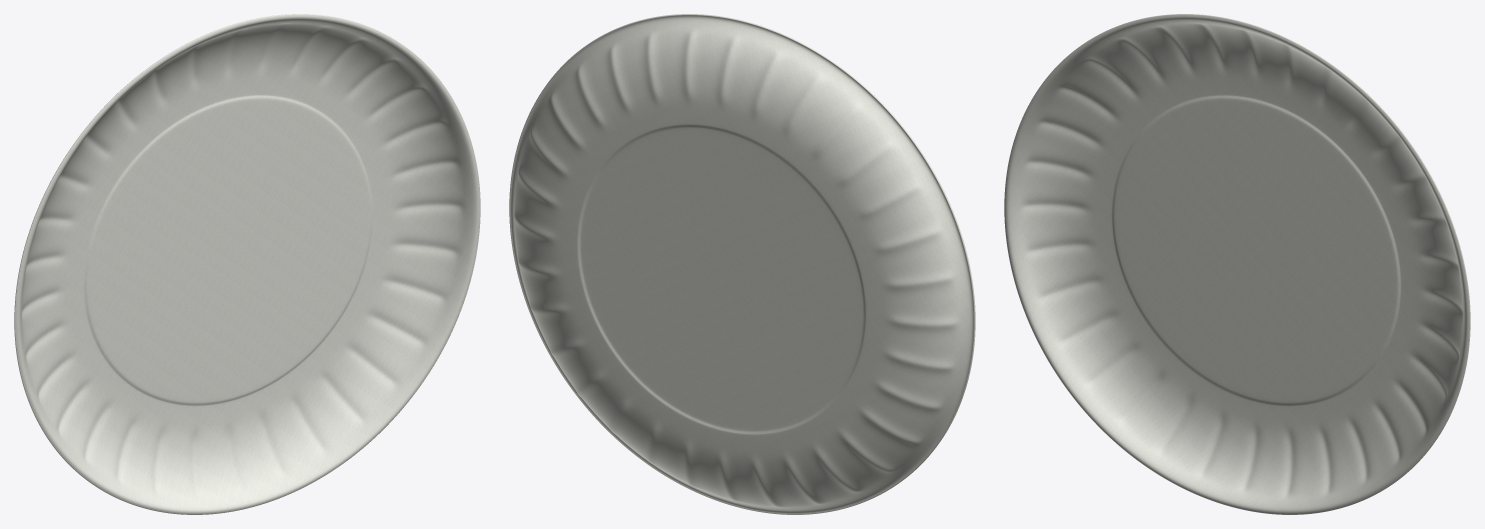
File: 10906_Paper Plate_v1_L3.obj
The picture shows the model from 3 angles, left to right: view 1: azimuth 30°, elevation 25°; view 2: azimuth 150°, elevation 25°; view 3: azimuth 330°, elevation 25°; orthographic projection.
Parts seen in each view (by area): view 1: Line01; view 2: Line01; view 3: Line01.
Part boxes in pixels (left/top/right/bottom): Line01: left=14, top=14, right=480, bottom=514; Line01: left=509, top=14, right=975, bottom=514; Line01: left=1004, top=14, right=1470, bottom=514.
Bounding box in the file's own units: 30.31 × 30.31 × 2.41.
Materials: 1 (1 with a texture image).
